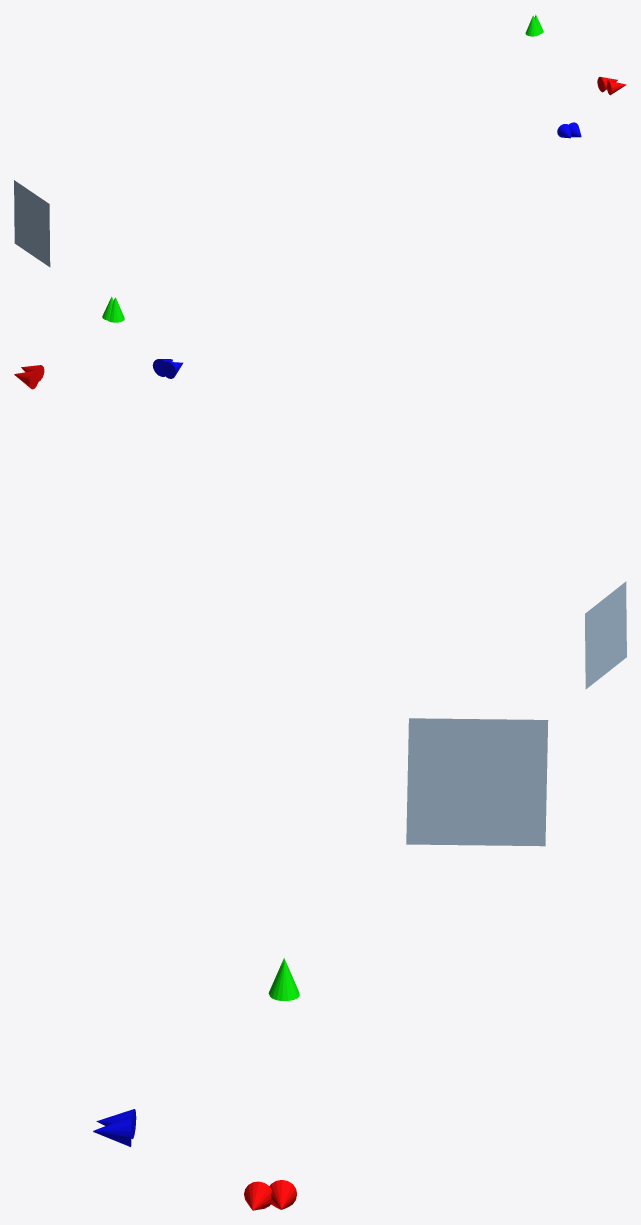
File: save.gltf
3 views of the same model, one above another, from view 1: azimuth 30°, elevation 25°; view 2: azimuth 150°, elevation 25°; view 3: azimuth 270°, elevation 25° (orthographic). The views are drawn at different scales.
Visible parts, largest first — view 1: Renderer Node; view 2: Renderer Node; view 3: Renderer Node.
Boxes of the visible parts, box(x1,y1,x2,y2) form: Renderer Node: box(14, 14, 626, 267); Renderer Node: box(14, 296, 626, 689); Renderer Node: box(93, 718, 548, 1210).
Bounding box in the file's own units: 1.31 × 0.383 × 0.4773.
